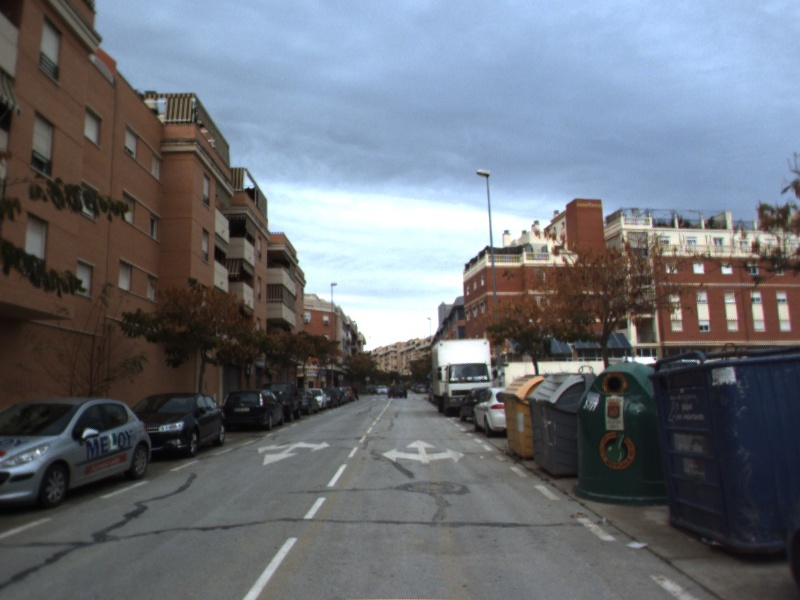STRAIGHT_LEFT_RIGHT: (379, 437, 466, 465)
